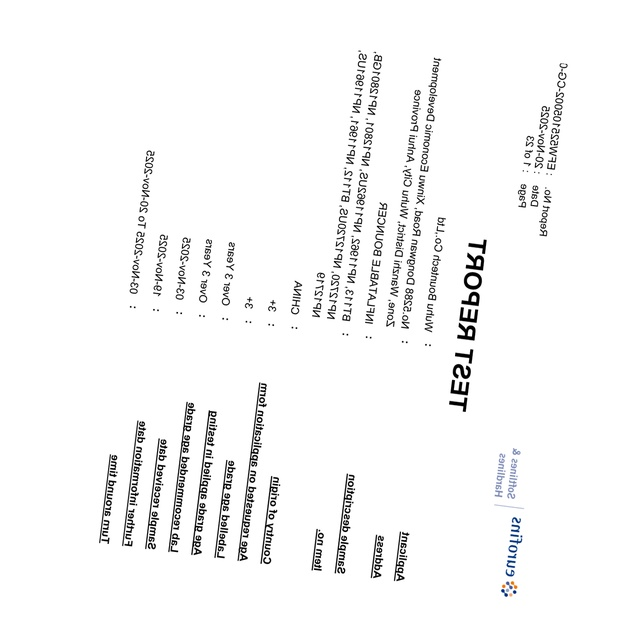eurofins: (498, 511, 529, 605)
